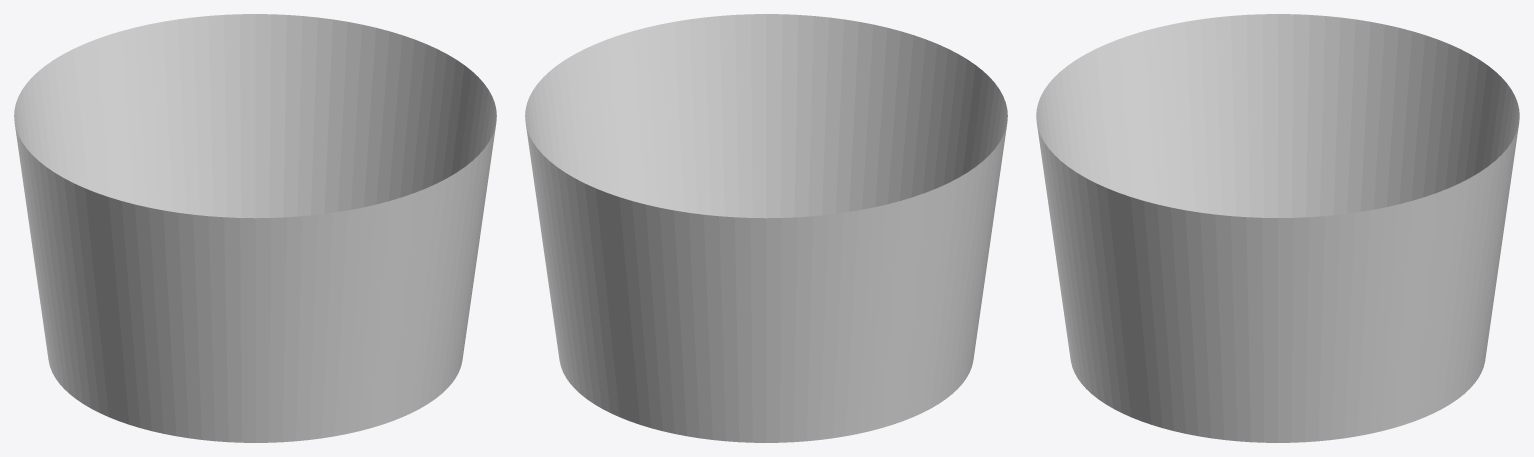
File: CD_JZ_ballbase_emi.FBX
3 views of the same model, side by side, from view 1: azimuth 30°, elevation 25°; view 2: azimuth 150°, elevation 25°; view 3: azimuth 270°, elevation 25° (orthographic).
Visible parts, largest first — view 1: CD_JZ_ballbase_emi; view 2: CD_JZ_ballbase_emi; view 3: CD_JZ_ballbase_emi.
Boxes of the visible parts, box(x1,y1,x2,y2) form: CD_JZ_ballbase_emi: box(14, 14, 496, 442); CD_JZ_ballbase_emi: box(525, 14, 1007, 442); CD_JZ_ballbase_emi: box(1036, 14, 1519, 442).
Bounding box in the file's own units: 257 × 141 × 258.
1 material, 1 textured.
